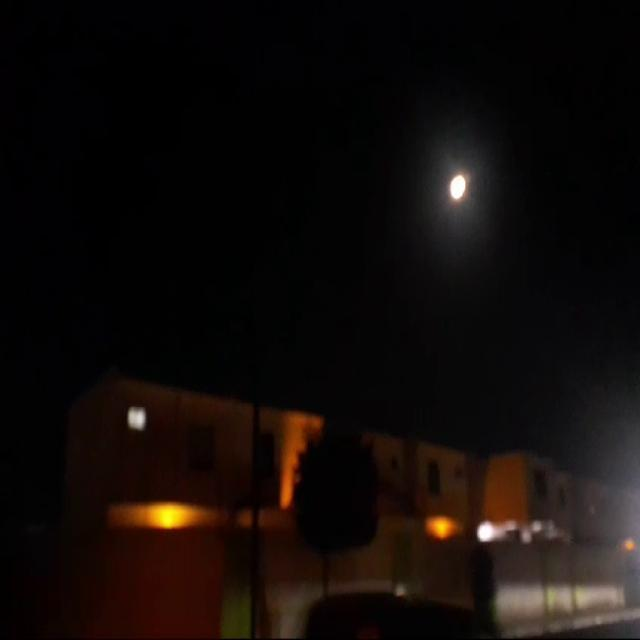moon: (452, 171, 471, 205)
